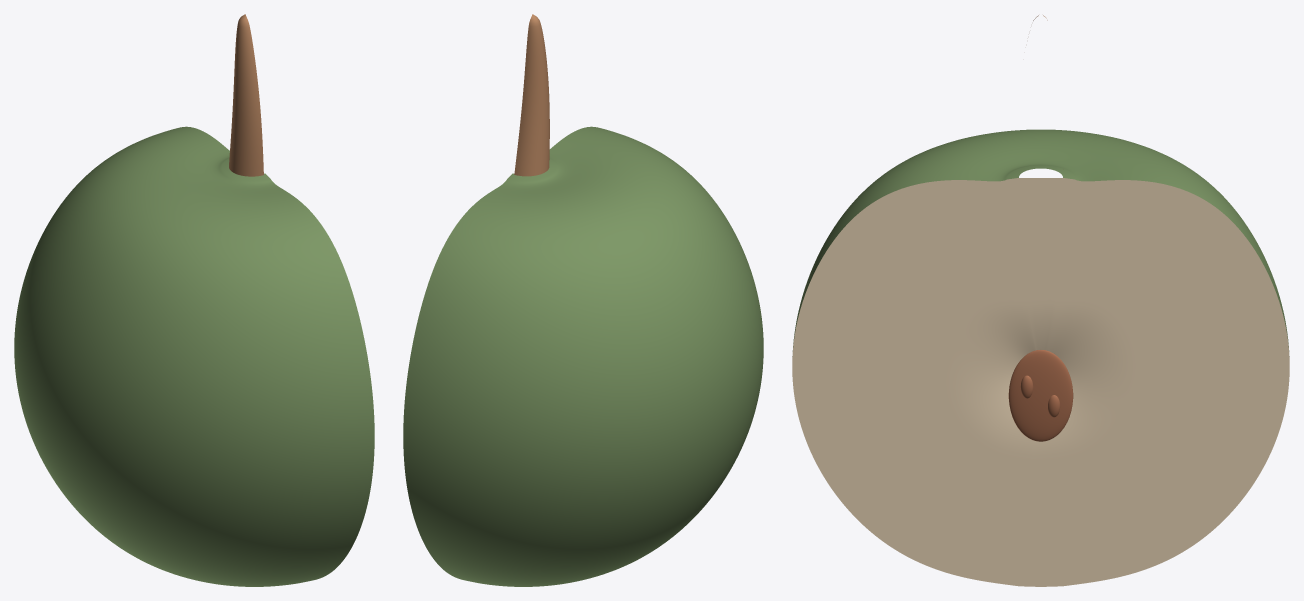
The model's file is apple_half_smooth.glb.
3 views of the same model, side by side, from view 1: azimuth 30°, elevation 25°; view 2: azimuth 150°, elevation 25°; view 3: azimuth 270°, elevation 25° (orthographic). The views are drawn at different scales.
Parts seen in each view (by area): view 1: Skin, Stem; view 2: Skin, Stem; view 3: Flesh, Skin, Seeds.
Part boxes in pixels (left/top/right/bottom): Skin: left=14, top=126, right=374, bottom=586; Stem: left=229, top=14, right=263, bottom=176; Skin: left=403, top=126, right=763, bottom=586; Stem: left=514, top=14, right=549, bottom=176; Flesh: left=792, top=178, right=1289, bottom=586; Skin: left=792, top=129, right=1289, bottom=356; Seeds: left=1008, top=350, right=1073, bottom=441.
Bounding box in the file's own units: 0.5619 × 1.36 × 1.08.
